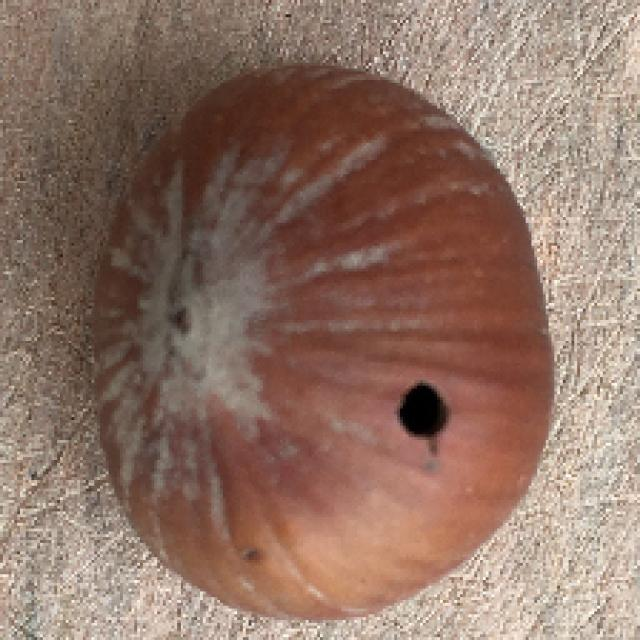DamagedHazelnut: (94, 62, 557, 624)
